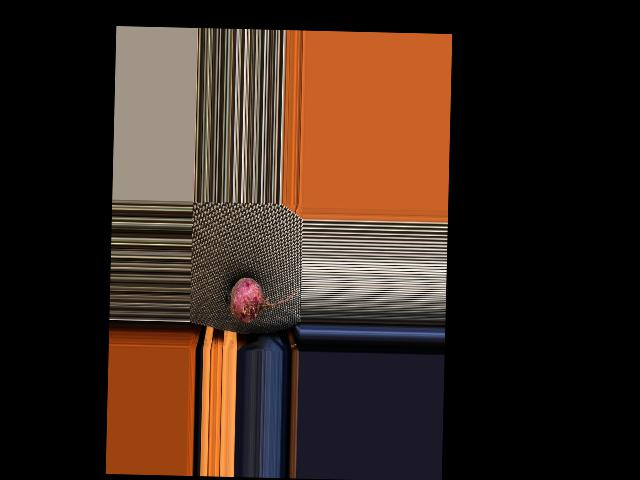beet: (223, 277, 295, 325)
